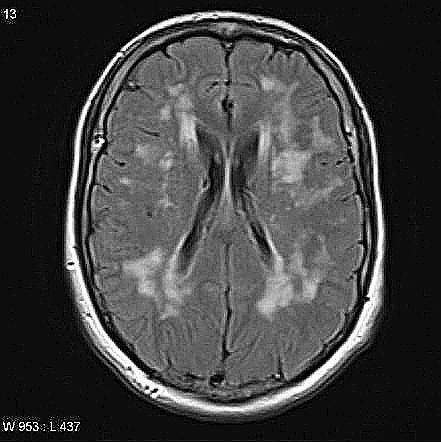Normal_Brain: (9, 12, 441, 442)
